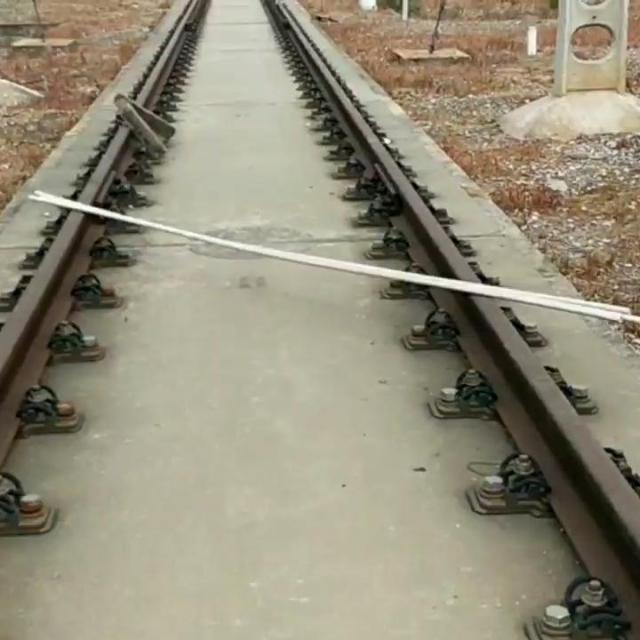rail: (435, 290, 640, 613), (265, 1, 479, 283), (1, 213, 101, 467), (138, 1, 208, 108), (79, 127, 130, 205)
